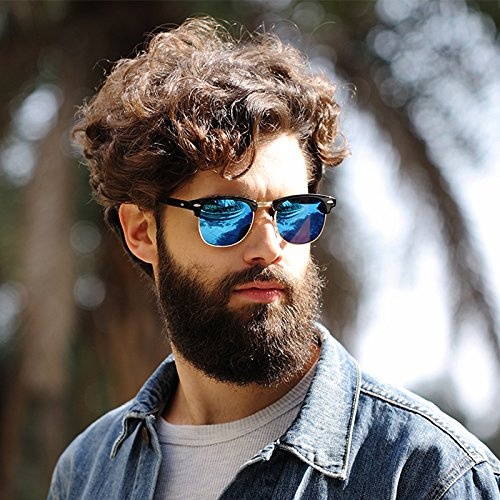sunglasses: (161, 192, 339, 245)
